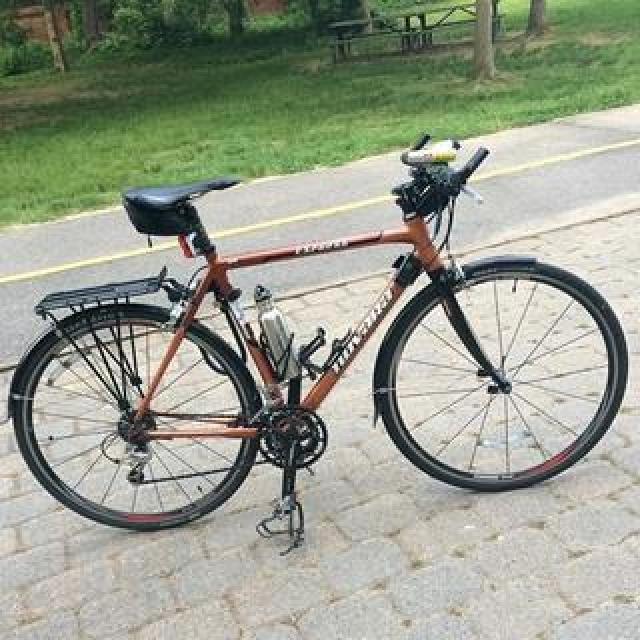Person: (18, 133, 630, 521)
